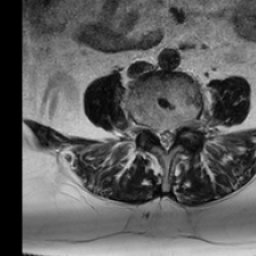CCS_normal: (162, 120, 170, 160)
LFS_stenosis: (178, 111, 187, 136)
LLS_normal: (170, 116, 178, 151)
RFS_stenosis: (145, 113, 154, 140)
RLS_normal: (154, 116, 162, 149)
